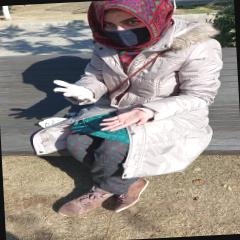gloved: (53, 78, 96, 105)
not-gloved: (97, 110, 146, 132)
